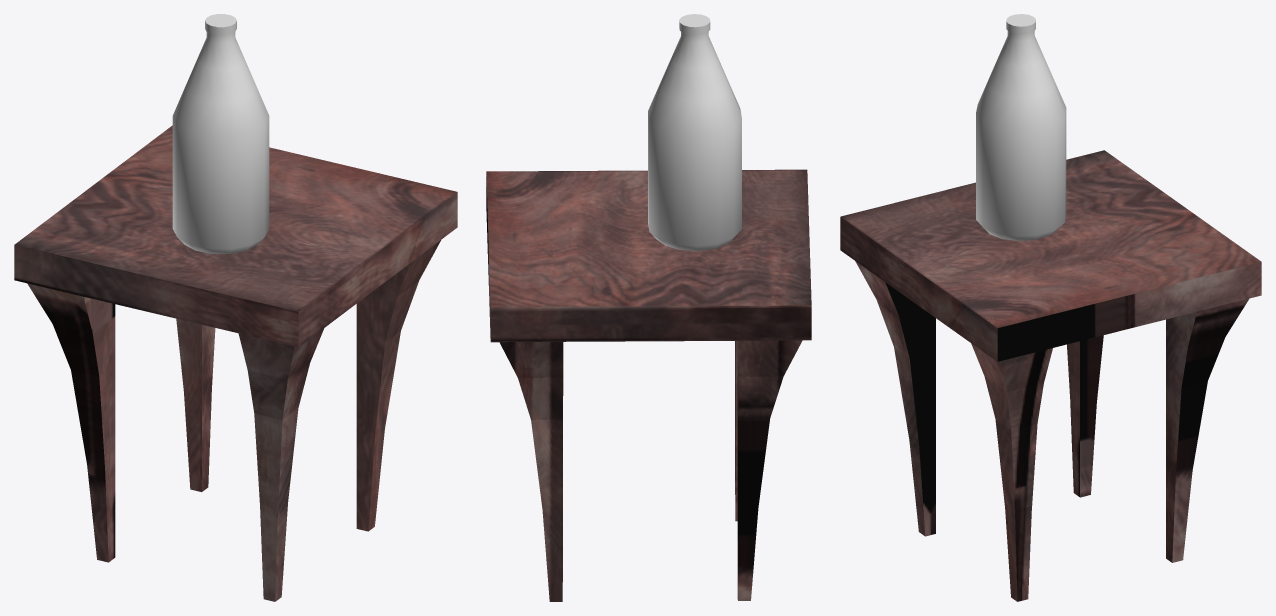
Rendered from Mesa_peque.fbx.
The picture shows the model from 3 angles, left to right: view 1: azimuth 30°, elevation 25°; view 2: azimuth 150°, elevation 25°; view 3: azimuth 270°, elevation 25°; orthographic projection. The views are drawn at different scales.
Parts seen in each view (by area): view 1: Newspaper.003; view 2: Newspaper.003; view 3: Newspaper.003.
Boxes of the visible parts, <box> form: Newspaper.003: <box>14,14,457,601</box>; Newspaper.003: <box>486,14,811,601</box>; Newspaper.003: <box>840,14,1261,601</box>.
Bounding box in the file's own units: 61.69 × 82.63 × 61.69.
2 materials, 1 textured.
